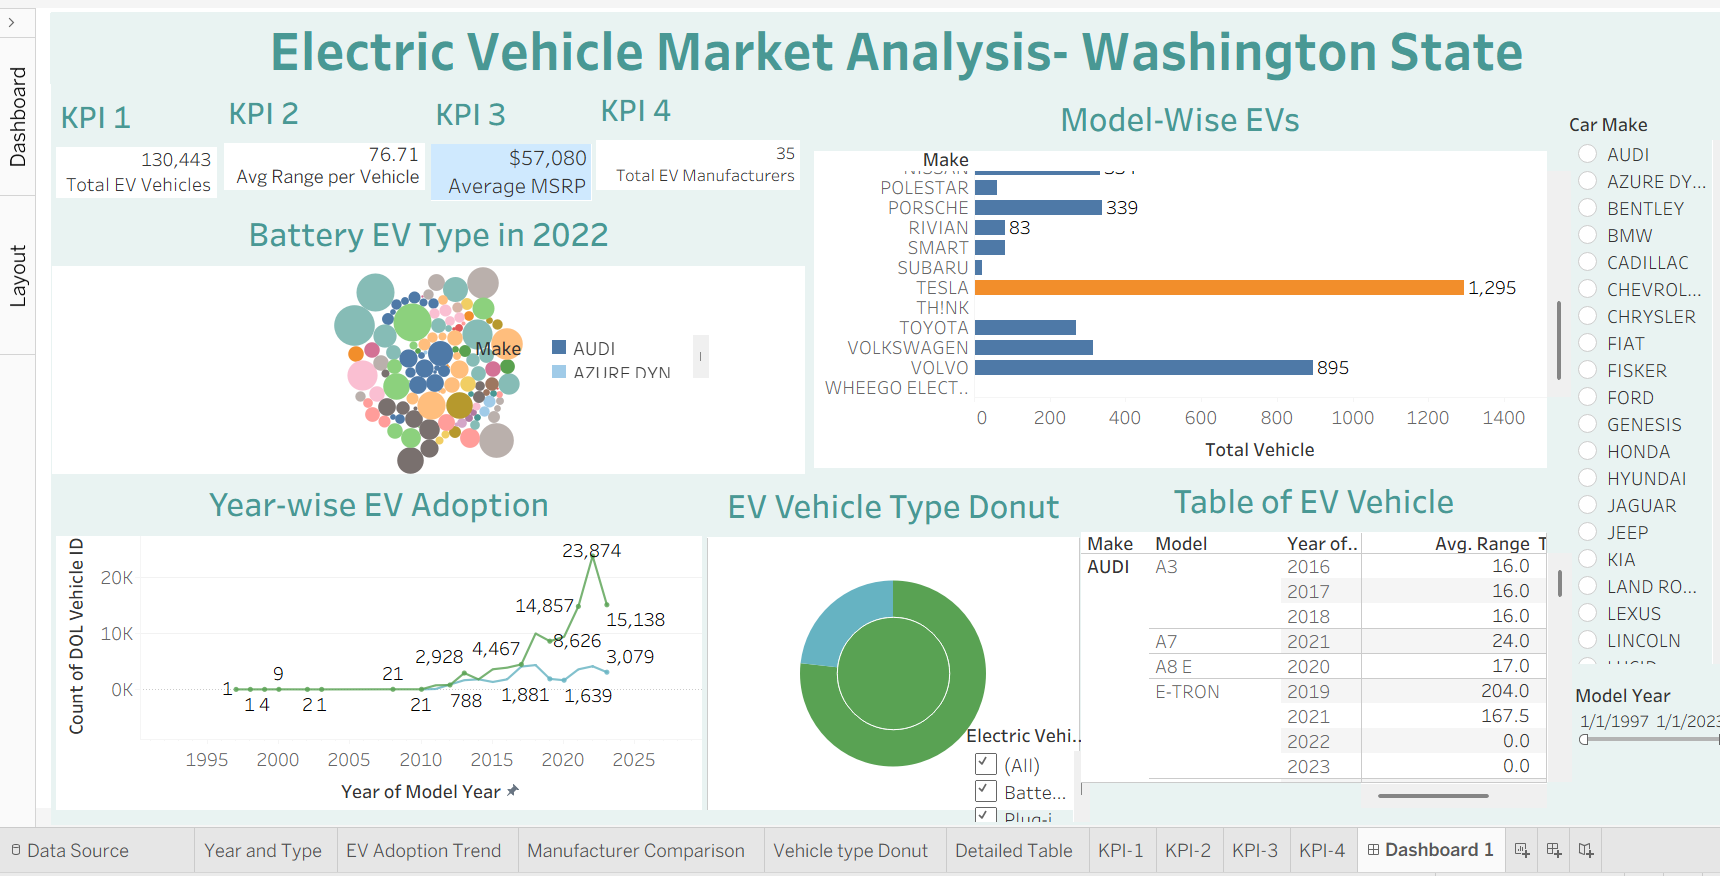

This screenshot's page, from the dashboard's own definition file:
{"tool":"tableau","page":{"name":"Dashboard 1","canvas":[1800,800],"ordinal":0},"visuals":[{"type":"text","box":[14,5,1693,71]},{"type":"worksheet","title":"KPI-4","mark":"Automatic","box":[560,76,204,106]},{"type":"worksheet","title":"KPI-2","mark":"Automatic","box":[188,79,205,185]},{"type":"worksheet","title":"KPI-3","mark":"Automatic","box":[395,80,186,126]},{"type":"legend","title":"KPI-4","param":"[federated.0z9k0ws1y3et2315nav221p7bcrh].[usr:Calculation_1314247314714628:qk]","box":[1182,82,140,88]},{"type":"worksheet","title":"KPI-1","mark":"Automatic","box":[20,83,169,124]},{"type":"worksheet","title":"Manufacturer Comparison","mark":"Automatic","rows":["Make"],"cols":["Calculation_1314247314165762"],"box":[778,84,757,376]},{"type":"parameter","param":"[Parameters].[Parameter 1]","box":[1533,103,160,553]},{"type":"worksheet","title":"Year and Type","mark":"Circle","box":[16,199,753,267]},{"type":"legend","title":"Year and Type","param":"[federated.0z9k0ws1y3et2315nav221p7bcrh].[none:Make:nk]","box":[439,327,236,43]},{"type":"worksheet","title":"Detailed Table","mark":"Automatic","rows":["Make","Model","Model Year"],"box":[1045,466,491,334]},{"type":"worksheet","title":"EV Adoption Trend","mark":"Line","rows":["DOL Vehicle ID"],"cols":["Model Year"],"box":[20,469,646,333]},{"type":"worksheet","title":"Vehicle type Donut","mark":"Automatic","rows":["Calculation_221802324957487105","Calculation_221802324957487105"],"box":[671,471,373,331]},{"type":"filter","title":"Year and Type","param":"[federated.0z9k0ws1y3et2315nav221p7bcrh].[none:Model Year:qk]","box":[1539,674,157,105]}]}

Visuals, with their boxes on the page's 1800x800 design canvas (x1, y1, x2, y2). These are canvas units, not pixel positions in the 1720x876 screenshot, which may show the page scaled, cropped or inside an application window:
text: select_region(14, 5, 1707, 76)
"KPI-4" worksheet: select_region(560, 76, 764, 182)
"KPI-2" worksheet: select_region(188, 79, 393, 264)
"KPI-3" worksheet: select_region(395, 80, 581, 206)
"KPI-4" legend: select_region(1182, 82, 1322, 170)
"KPI-1" worksheet: select_region(20, 83, 189, 207)
"Manufacturer Comparison" worksheet: select_region(778, 84, 1535, 460)
parameter: select_region(1533, 103, 1693, 656)
"Year and Type" worksheet (Circle marks): select_region(16, 199, 769, 466)
"Year and Type" legend: select_region(439, 327, 675, 370)
"Detailed Table" worksheet: select_region(1045, 466, 1536, 800)
"EV Adoption Trend" worksheet (Line marks): select_region(20, 469, 666, 802)
"Vehicle type Donut" worksheet: select_region(671, 471, 1044, 802)
"Year and Type" filter: select_region(1539, 674, 1696, 779)
